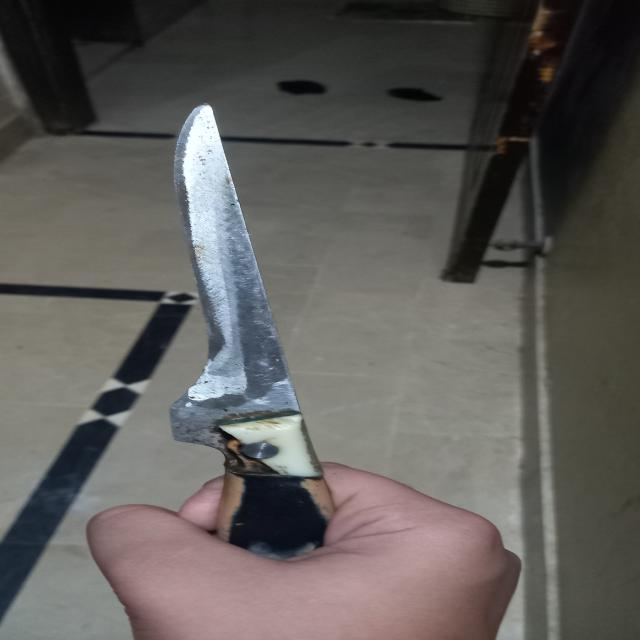Knife: (144, 83, 377, 572)
